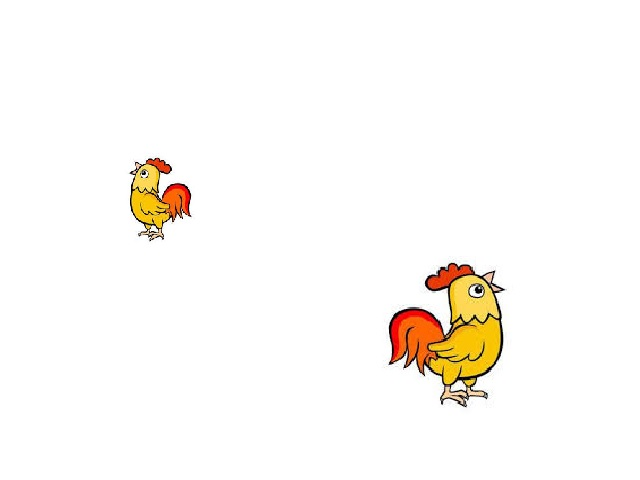crown: (423, 263, 473, 291), (147, 155, 171, 172)
eyes: (467, 283, 485, 299), (139, 170, 150, 180)
feet: (442, 385, 488, 410), (136, 227, 168, 243)
tail: (386, 308, 447, 377), (162, 184, 192, 219)
